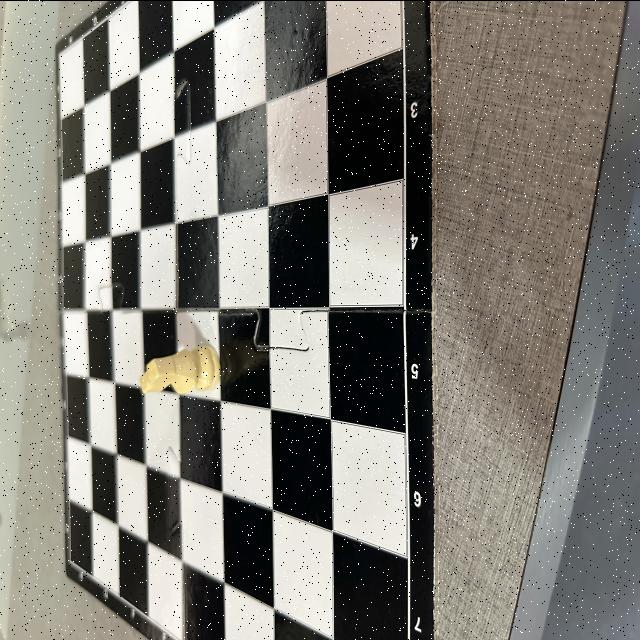White-Knight: (139, 343, 221, 394)
